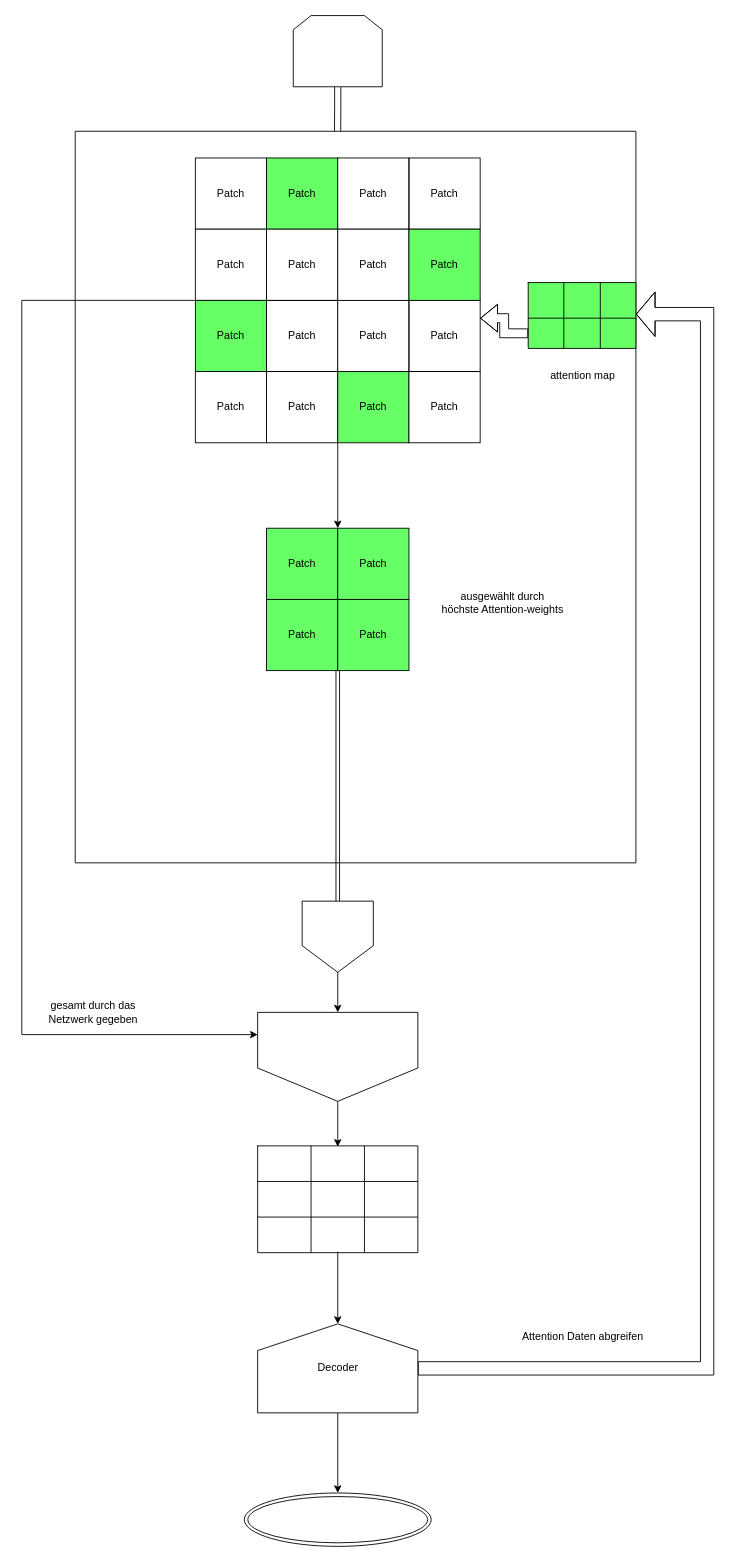
Some shapes in this 730 by 1562 pixel diagram are drawn without their labels. Here are the shapes that lost their labels. From the top down, the centre of each, then its label:
At [337,51]: "mode attention".
At [337,936]: "output".
At [337,1056]: "Encoder".
At [337,1199]: "Feature Vector".
At [337,1519]: "Ergebnis".
